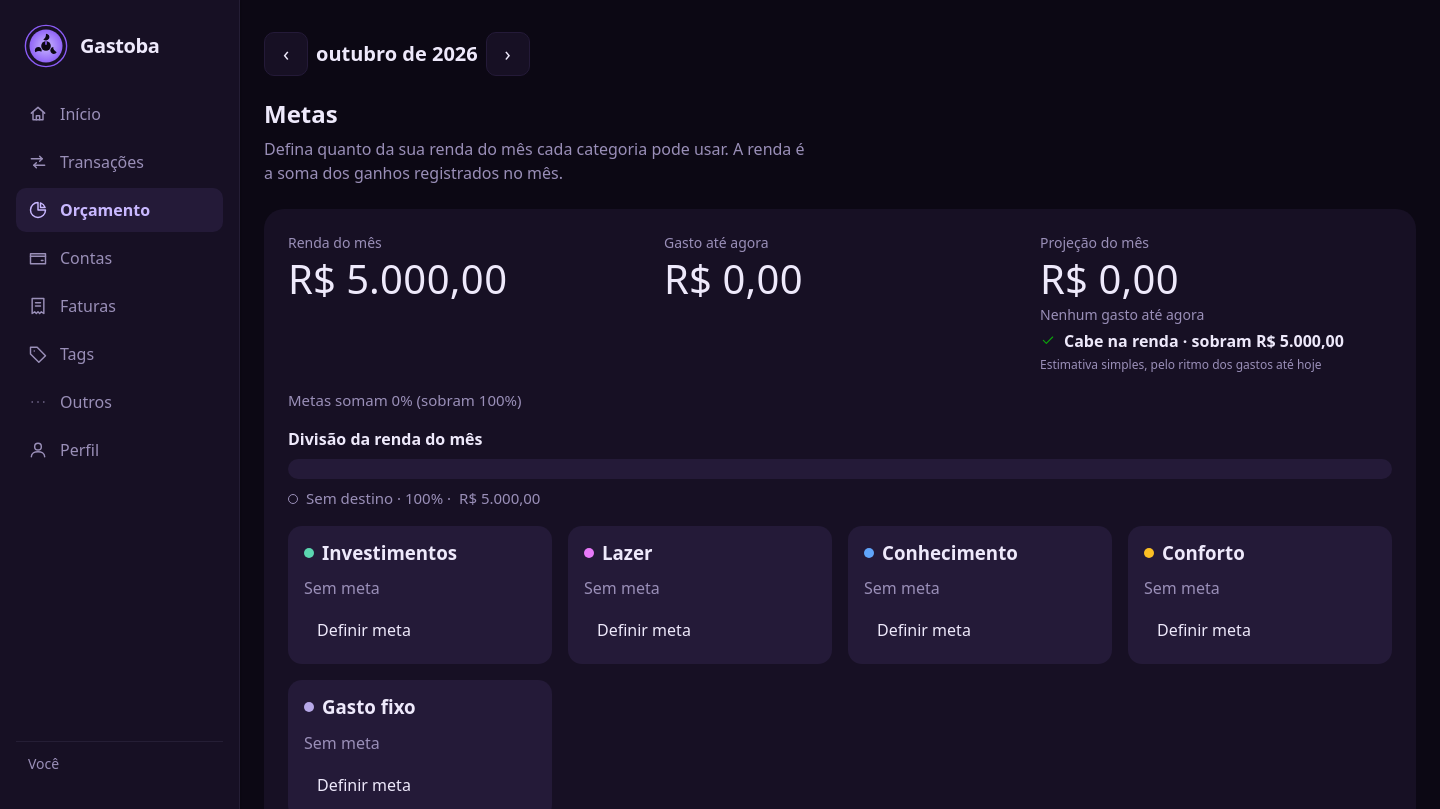
Test case: Orcamento › a barra deslizante muda o percentual, o valor em reais e salva
The image size is (1440, 809).
expect the list item "Lazer" is shown: met, box [568, 526, 832, 664]
Click the button with aria-label "Definir meta de Lazer": (644,630) [584, 612, 704, 648]
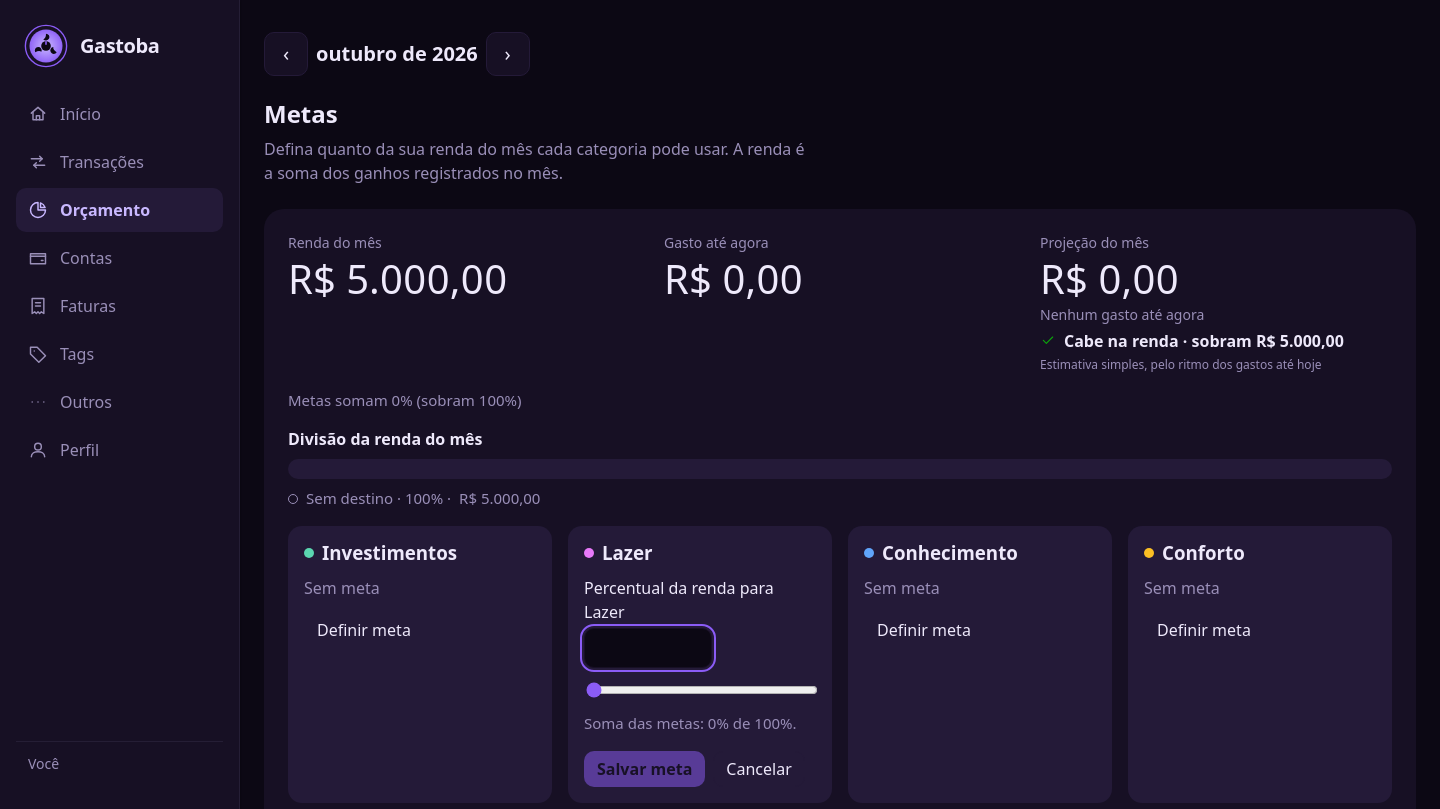
Set the slider named "Ajustar o percentual de Lazer" to "25": (646,690) [586, 678, 818, 702]
(page scrolled)
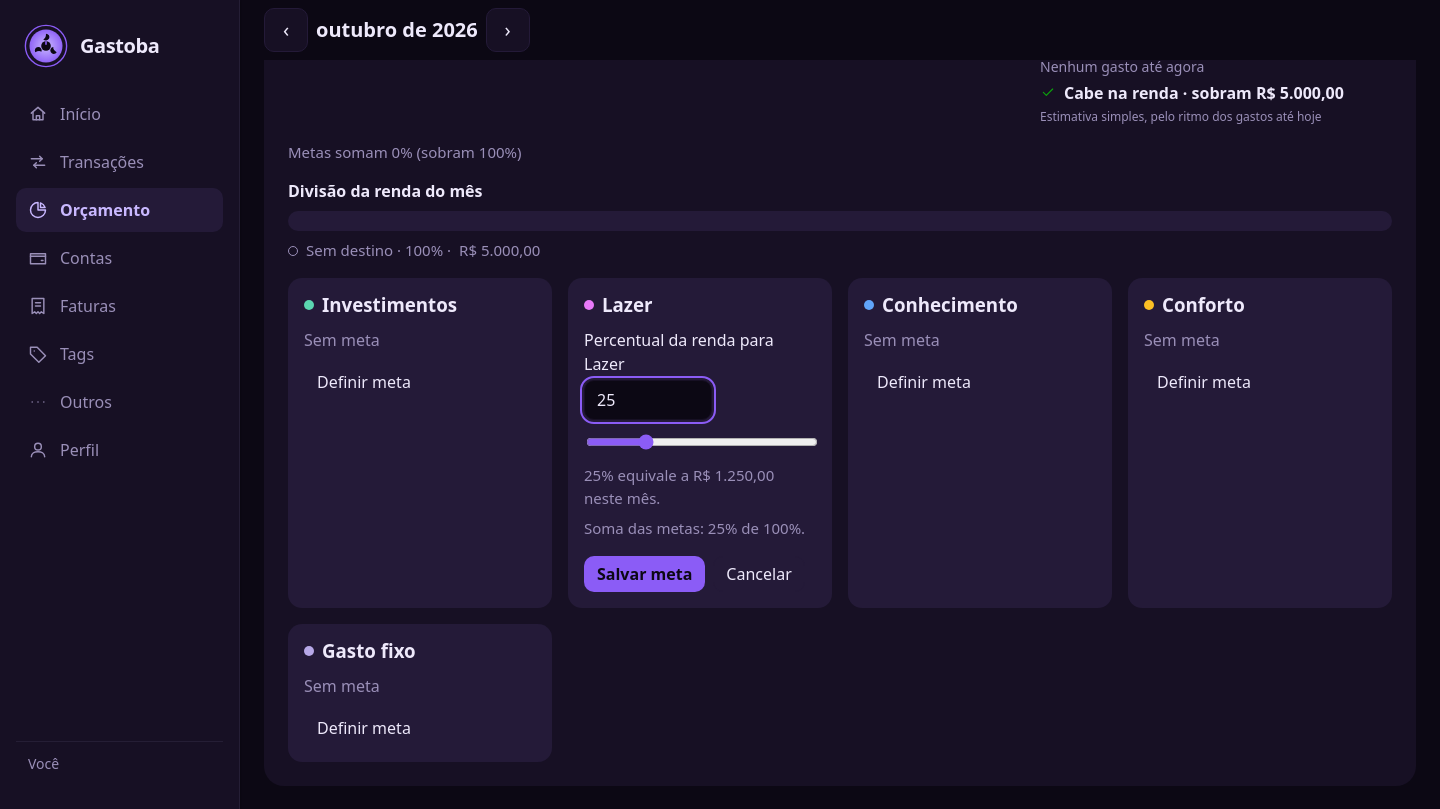
expect the field labelled "Percentual da renda para Lazer" holds "25": met, box [584, 380, 712, 420]
Click the button "Salvar meta": (645,574) [584, 556, 705, 592]
(page scrolled)
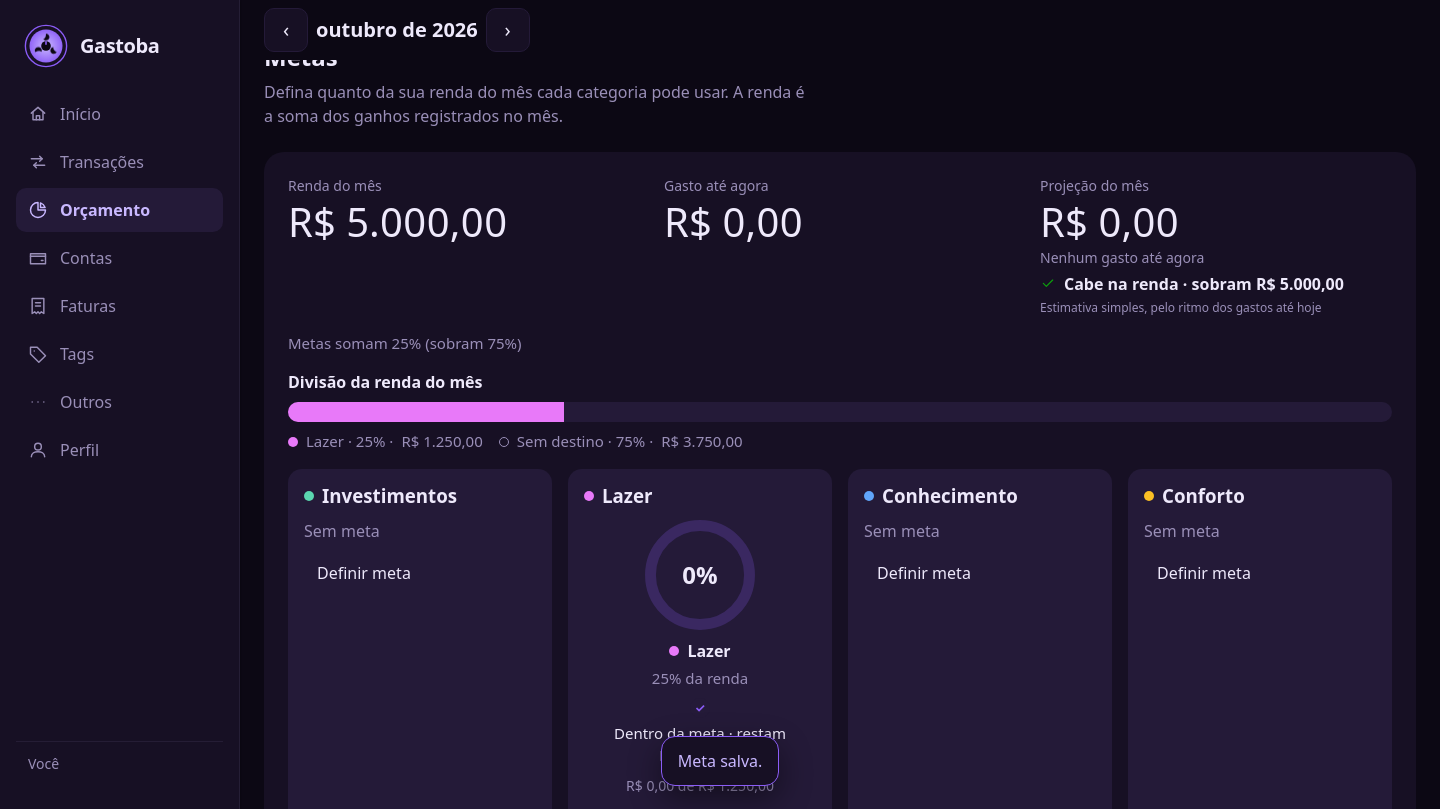
expect the text "Meta salva." is shown: met, box [678, 750, 762, 772]
